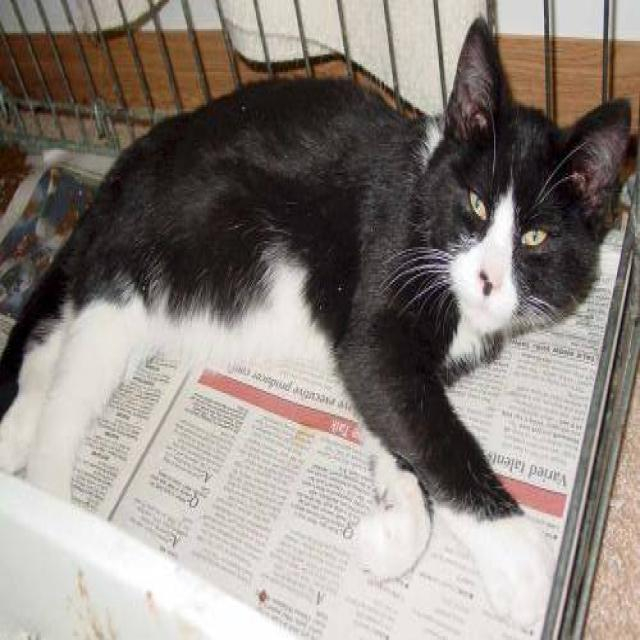cat: (0, 16, 635, 630)
